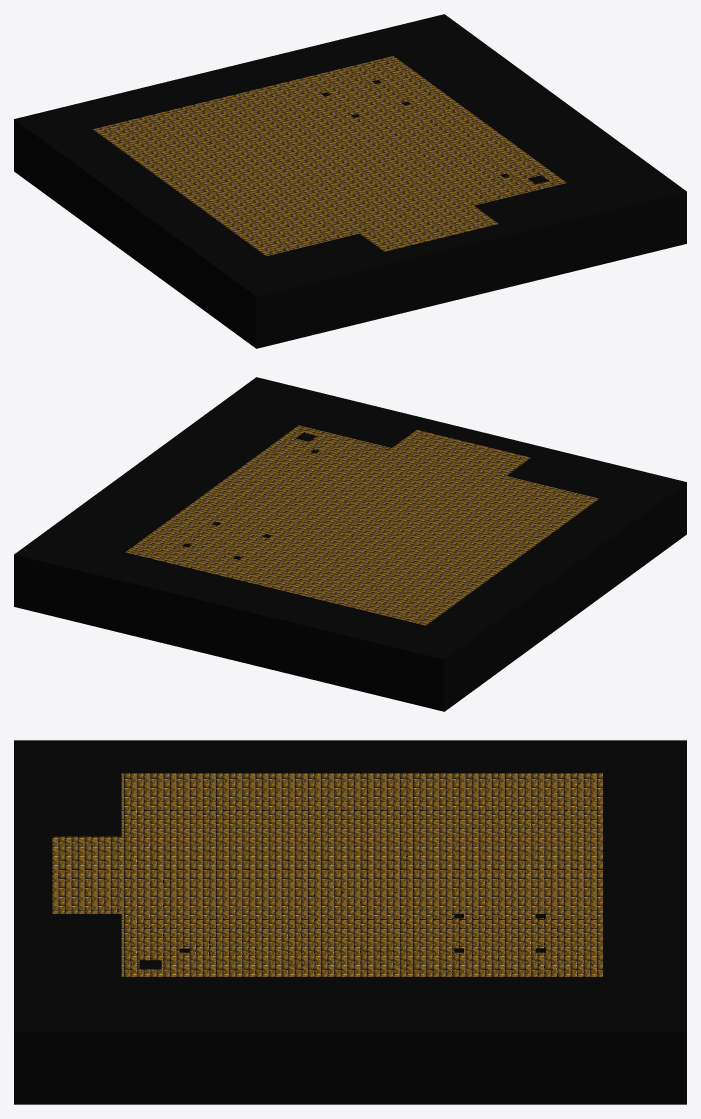
3 renders of one model, top to bottom at view 1: azimuth 30°, elevation 25°; view 2: azimuth 150°, elevation 25°; view 3: azimuth 270°, elevation 25°, orthographic. The views are drawn at different scales.
Visible parts, largest first — view 1: MESASTINPIRAMIDA_Main-Default_Material.001, MESASTINPIRAMIDA_Main-Material2.001; view 2: MESASTINPIRAMIDA_Main-Default_Material.001, MESASTINPIRAMIDA_Main-Material2.001; view 3: MESASTINPIRAMIDA_Main-Default_Material.001, MESASTINPIRAMIDA_Main-Material2.001.
Part boxes in pixels (bbox=[...]): MESASTINPIRAMIDA_Main-Default_Material.001: bbox=[14, 14, 686, 348]; MESASTINPIRAMIDA_Main-Material2.001: bbox=[93, 56, 566, 256]; MESASTINPIRAMIDA_Main-Default_Material.001: bbox=[14, 377, 686, 711]; MESASTINPIRAMIDA_Main-Material2.001: bbox=[125, 425, 598, 625]; MESASTINPIRAMIDA_Main-Default_Material.001: bbox=[14, 740, 686, 1104]; MESASTINPIRAMIDA_Main-Material2.001: bbox=[52, 773, 603, 976].
Bounding box in the file's own units: 41768 × 4845 × 40738.
Materials: 7 (7 with a texture image).
